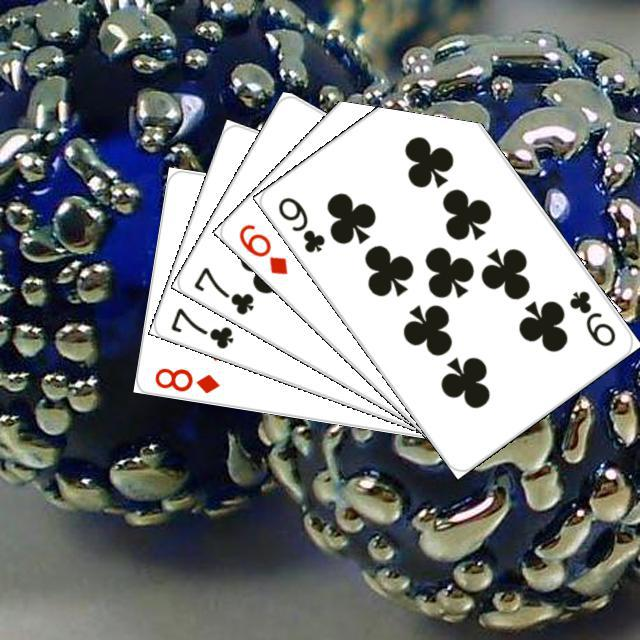6d: (233, 219, 289, 277)
7c: (188, 262, 256, 317), (165, 303, 235, 351)
8d: (150, 362, 221, 395)
9c: (272, 191, 327, 255), (564, 285, 618, 349)
